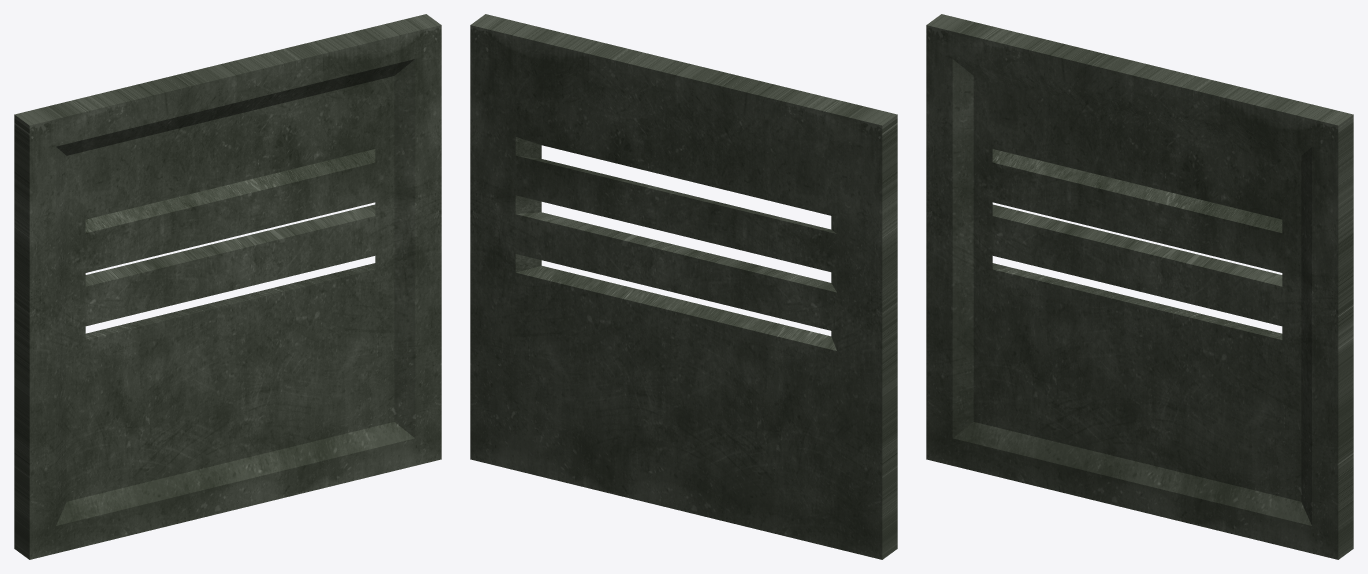
Rendered from VentDoor.fbx.
The picture shows the model from 3 angles, left to right: view 1: azimuth 30°, elevation 25°; view 2: azimuth 150°, elevation 25°; view 3: azimuth 330°, elevation 25°; orthographic projection.
Visible parts, largest first — view 1: VentDoor; view 2: VentDoor; view 3: VentDoor.
Part boxes in pixels (x1,y1,x2,y2): VentDoor: (14,14,441,559); VentDoor: (470,14,897,559); VentDoor: (926,14,1353,559).
Bounding box in the file's own units: 39.9 × 40.2 × 2.55.
1 material, 1 textured.
